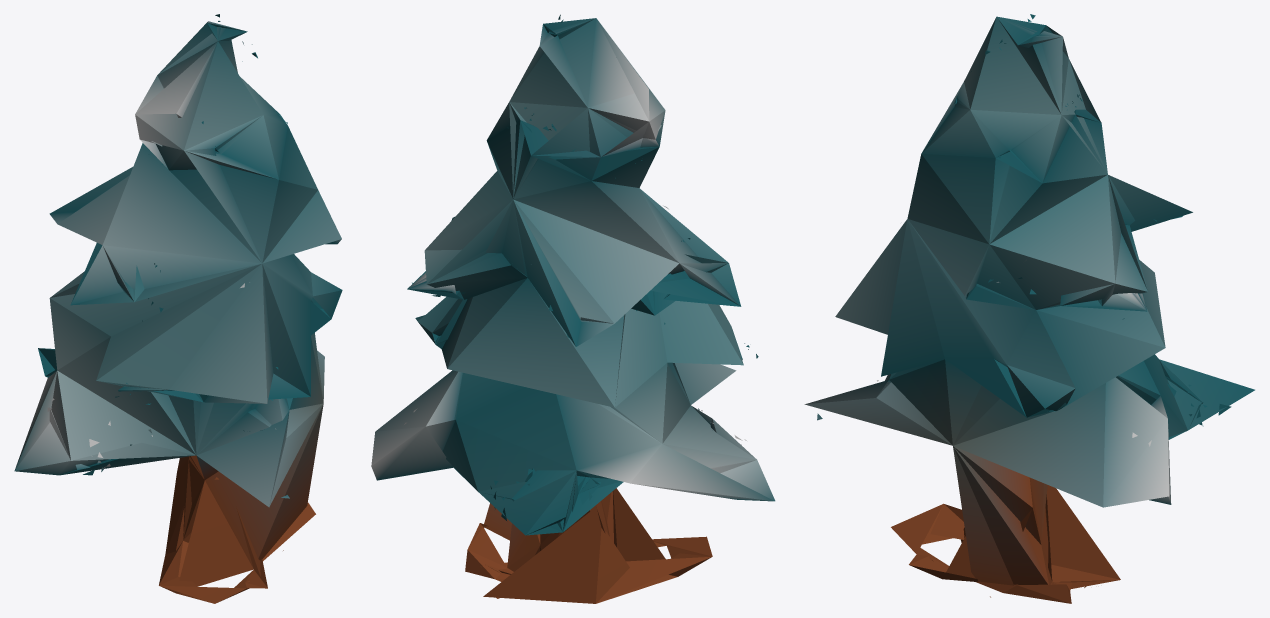
The model's file is spruce_lod.glb.
3 renders of one model, left to right at view 1: azimuth 30°, elevation 25°; view 2: azimuth 150°, elevation 25°; view 3: azimuth 270°, elevation 25°, orthographic. The views are drawn at different scales.
Visible parts, largest first — view 1: spruce_lod; view 2: spruce_lod; view 3: spruce_lod.
Part boxes in pixels (left/top/right/bottom): spruce_lod: left=14, top=14, right=342, bottom=603; spruce_lod: left=371, top=14, right=775, bottom=603; spruce_lod: left=804, top=14, right=1254, bottom=603.
Size of the model in its own units: 0.8319 by 1.25 by 0.9011.
